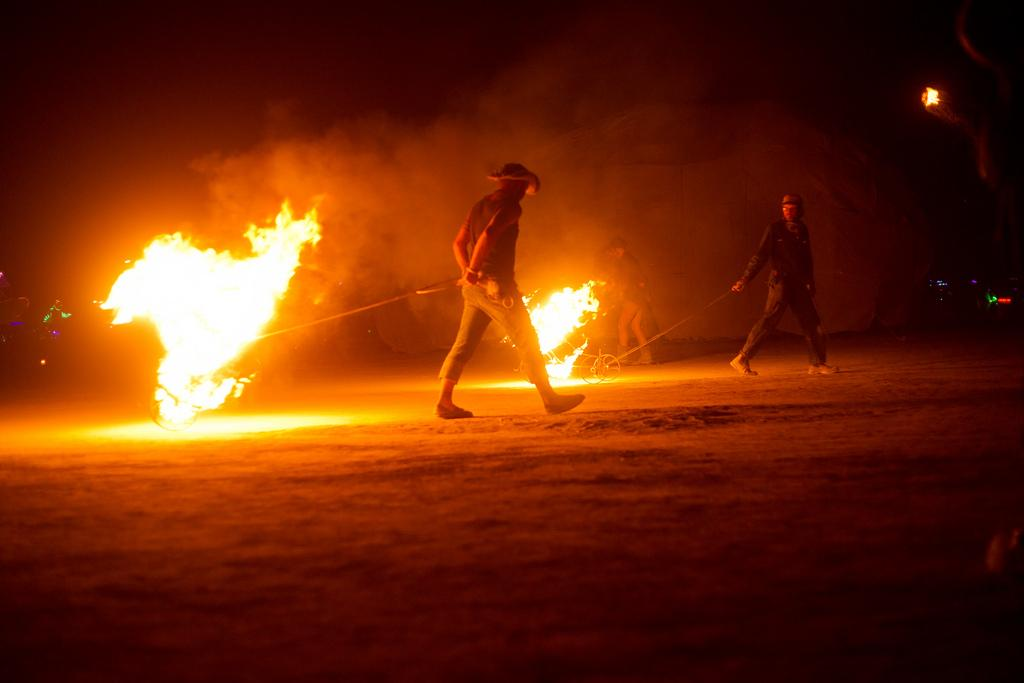fire: (138, 243, 267, 393), (533, 295, 595, 355)
